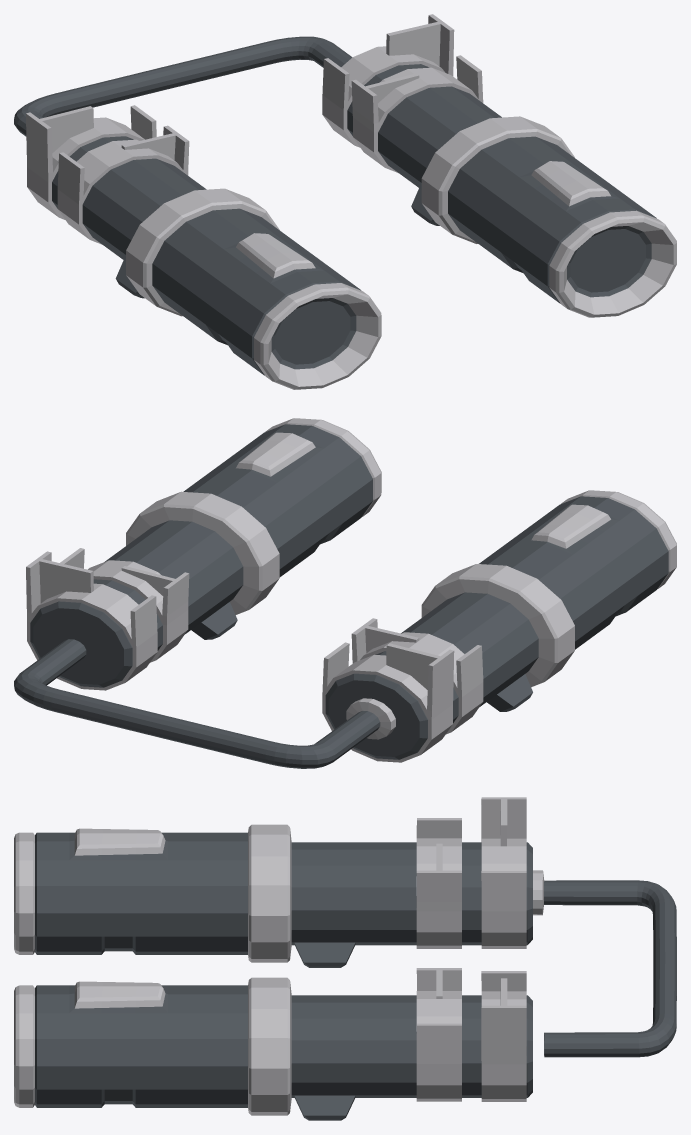
Rendered from Personal_Vehicle_04_Engine.fbx.
The picture shows the model from 3 angles, top to bottom: view 1: azimuth 30°, elevation 25°; view 2: azimuth 150°, elevation 25°; view 3: azimuth 270°, elevation 25°; orthographic projection. The views are drawn at different scales.
Visible parts, largest first — view 1: Personal_Vehicle_04_Engine; view 2: Personal_Vehicle_04_Engine; view 3: Personal_Vehicle_04_Engine.
Part boxes in pixels (x1,y1,x2,y2): Personal_Vehicle_04_Engine: (14, 14, 676, 389); Personal_Vehicle_04_Engine: (14, 418, 676, 768); Personal_Vehicle_04_Engine: (14, 797, 676, 1120).
Bounding box in the file's own units: 204 × 54.3 × 256.
2 materials, 2 textured.
